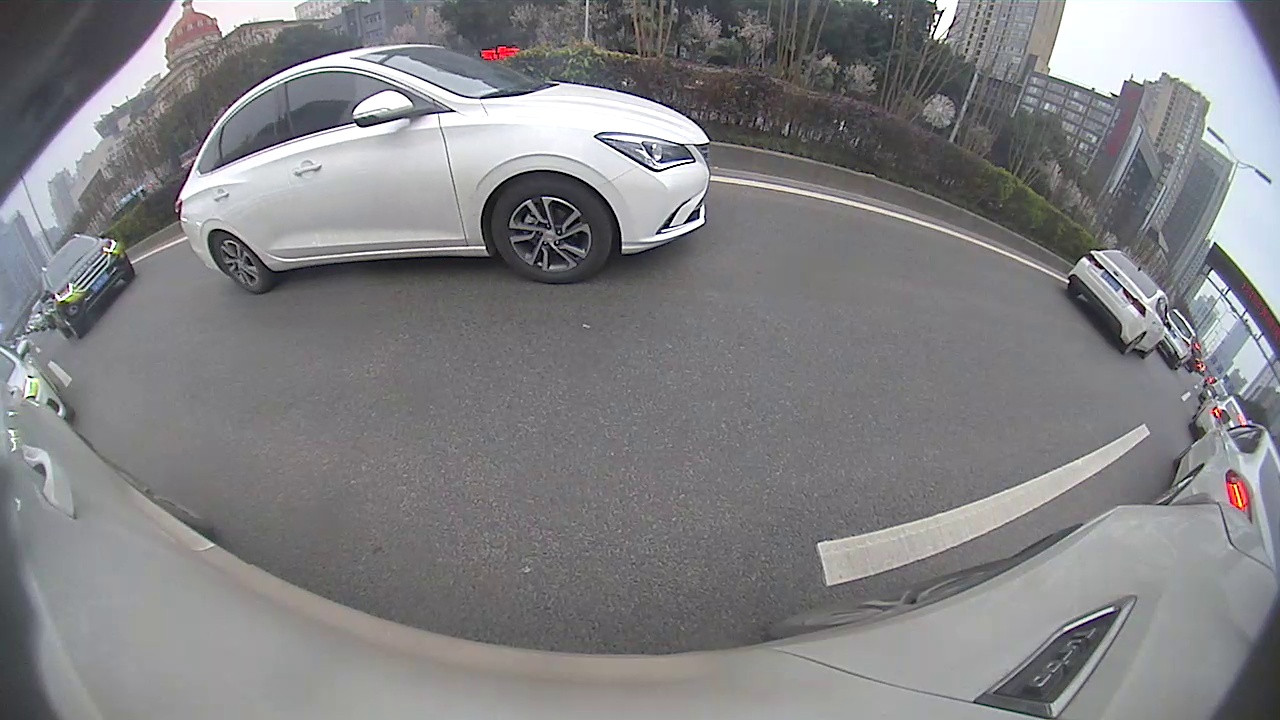car: (173, 43, 714, 294), (1153, 409, 1279, 540), (1065, 246, 1175, 362), (37, 232, 137, 343)
front: (489, 175, 617, 286)
rear: (209, 232, 269, 294), (1121, 332, 1146, 357)
